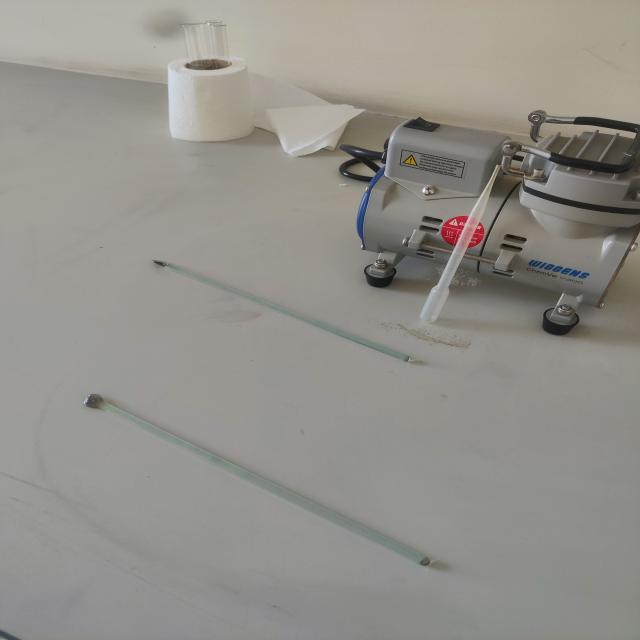Glass_Rod: (60, 372, 449, 594), (135, 234, 437, 398)
Pipette: (402, 140, 520, 335)
